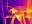Hotspot: (26, 0, 31, 23), (15, 14, 25, 23), (10, 8, 17, 14)
